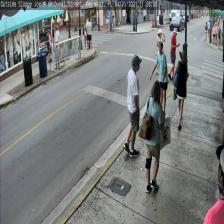person: (144, 79, 166, 192), (172, 51, 189, 128)
